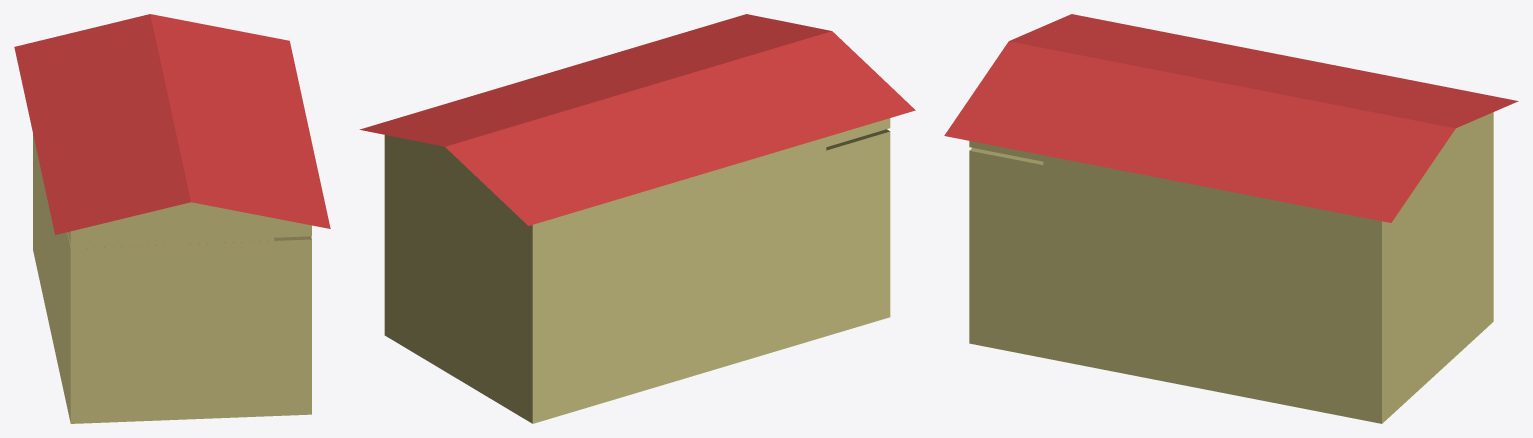
3 views of the same model, side by side, from view 1: azimuth 30°, elevation 25°; view 2: azimuth 150°, elevation 25°; view 3: azimuth 270°, elevation 25° (orthographic). The views are drawn at different scales.
Bounding box in the file's own units: 12.72 × 15.14 × 7.18.
